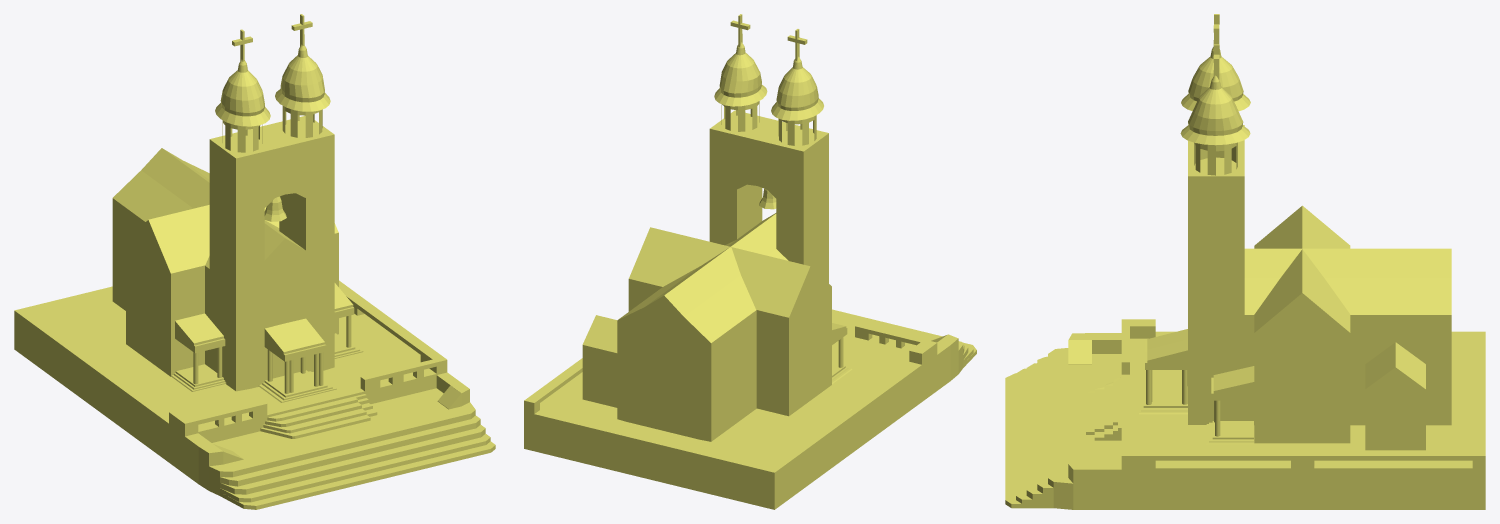
File: Catedral.fbx
The picture shows the model from 3 angles, left to right: view 1: azimuth 30°, elevation 25°; view 2: azimuth 150°, elevation 25°; view 3: azimuth 270°, elevation 25°; orthographic projection. The views are drawn at different scales.
Visible parts, largest first — view 1: Cube.002; view 2: Cube.002; view 3: Cube.002.
Boxes of the visible parts, x1,y1,x2,y2 form: Cube.002: (14, 14, 495, 509); Cube.002: (524, 14, 976, 509); Cube.002: (1005, 14, 1485, 509).
Bounding box in the file's own units: 163 × 229 × 241.
